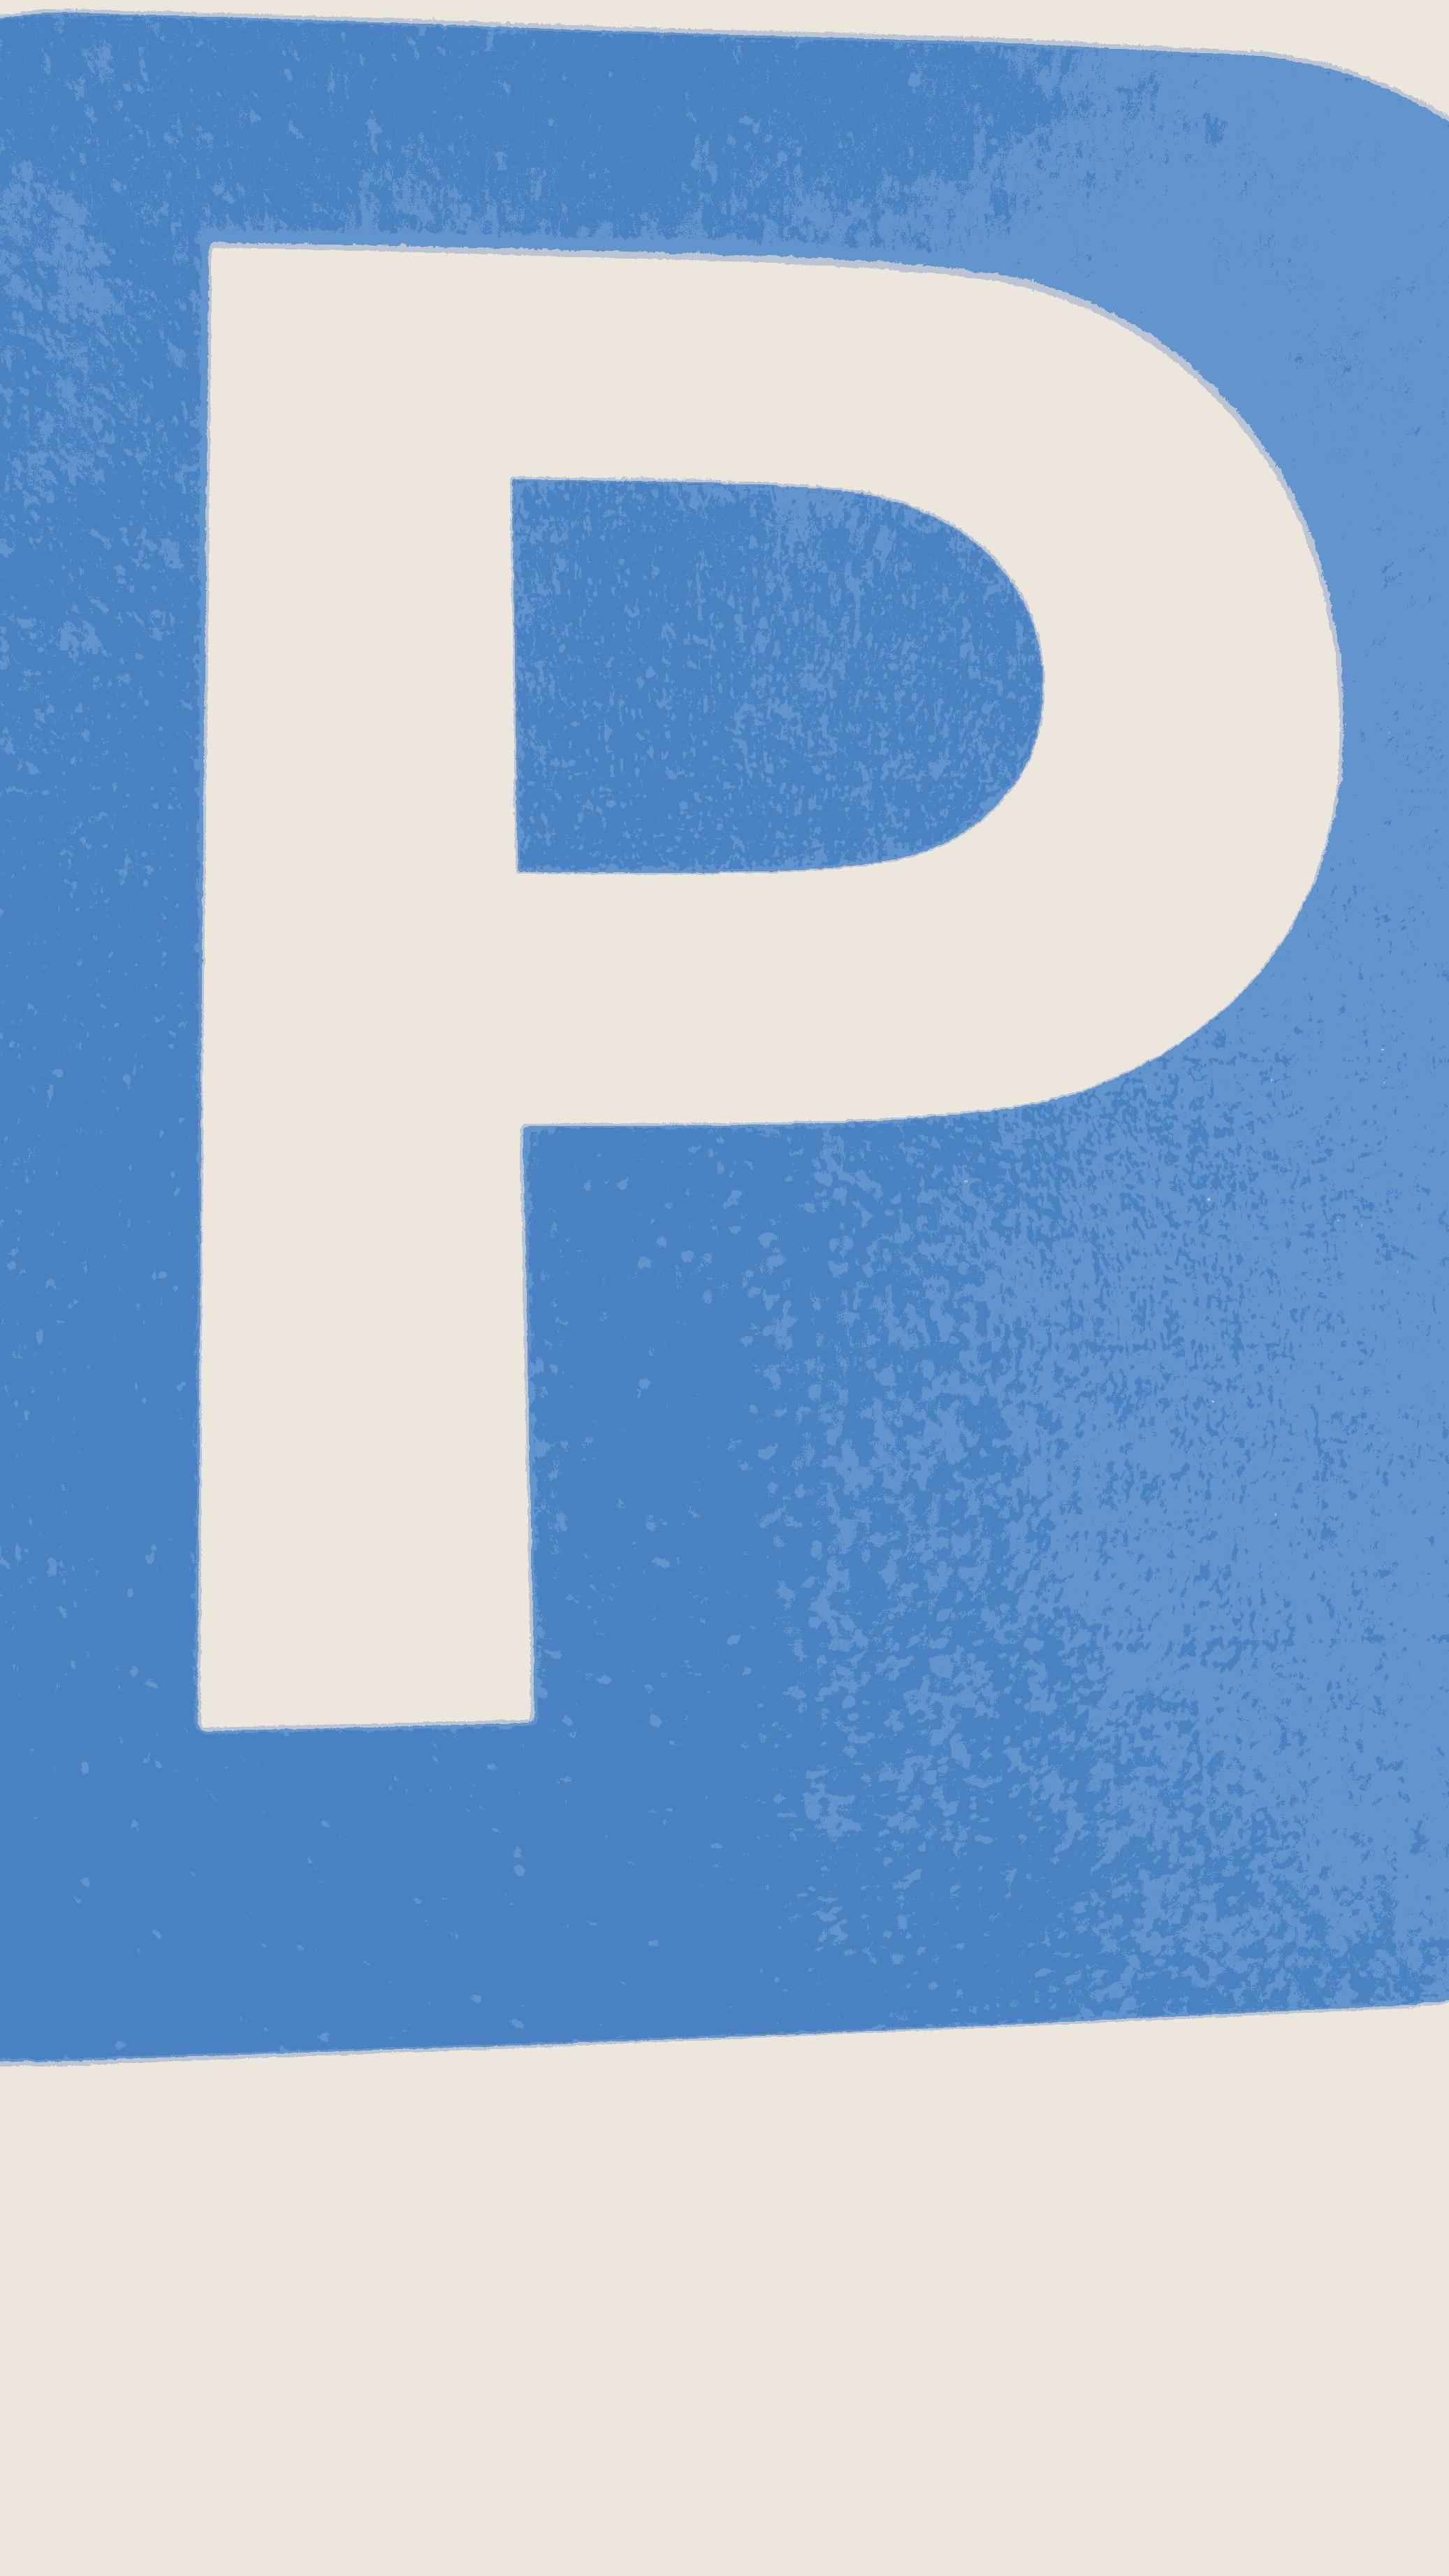parking: (14, 21, 1449, 2061)
